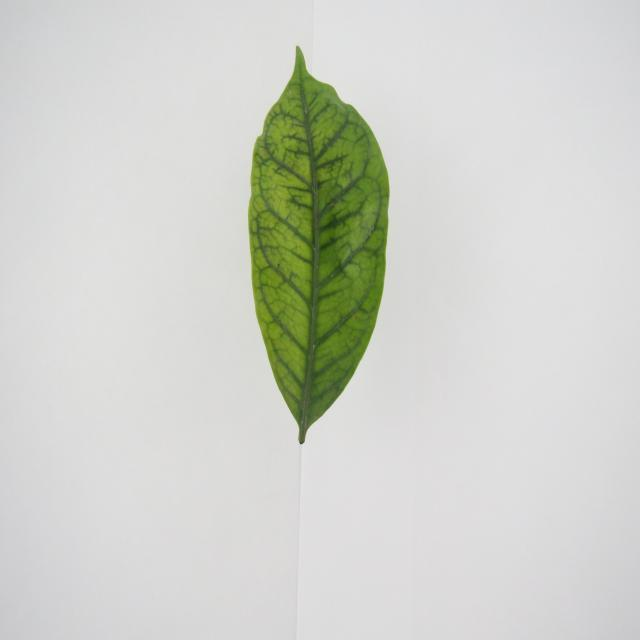DeficienciaNutricional-Manganeso: (249, 47, 389, 443)
